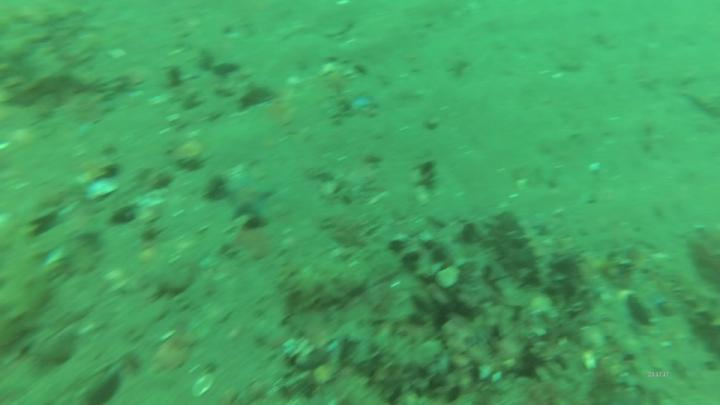holothurian: (276, 253, 370, 312)
starfish: (221, 176, 277, 224)
